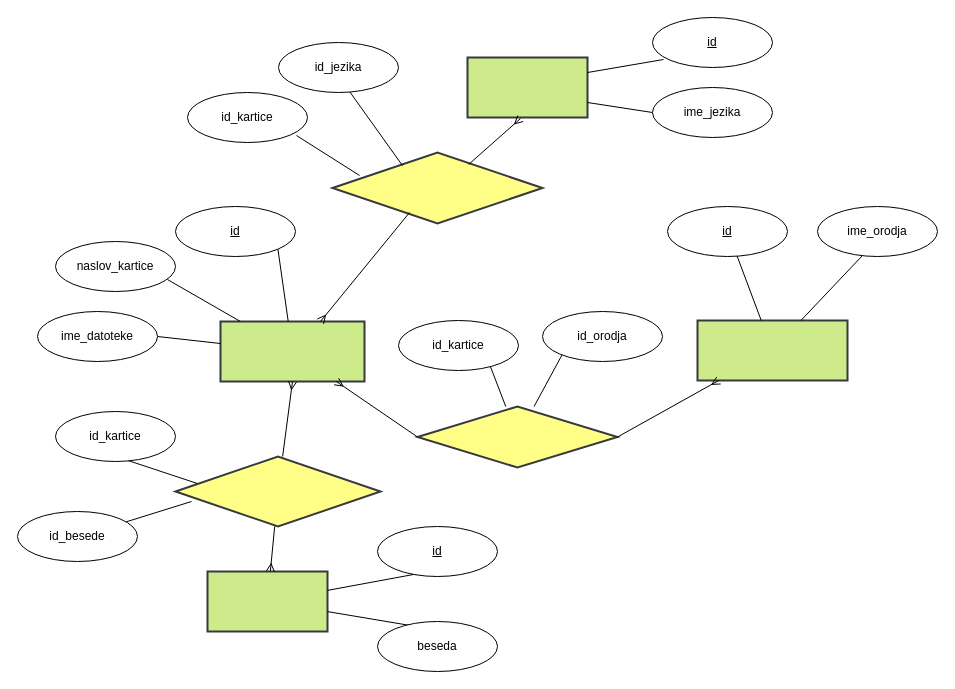
This 955x689 diagram has some shape labels left out. Here are the shapes that lost their labels. From the top down, the centre of each, then its label:
At [527,87]: "programski_jezik".
At [437,187]: "kartica_uci_programski_jezik".
At [292,351]: "konceptna_kartica".
At [772,350]: "programsko_ orodje".
At [517,436]: "kartica_uci_programsko_orodje".
At [277,491]: "kartica_vsebuje_kljucno_besedo".
At [267,601]: "kljucna_beseda".
